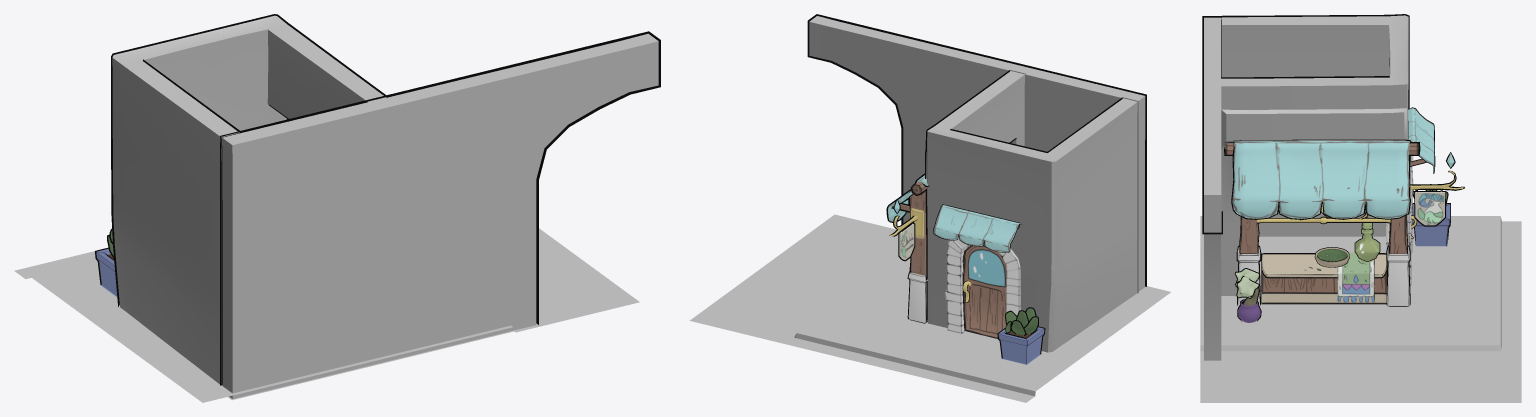
3 views of the same model, side by side, from view 1: azimuth 30°, elevation 25°; view 2: azimuth 150°, elevation 25°; view 3: azimuth 270°, elevation 25° (orthographic). The views are drawn at different scales.
Parts seen in each view (by area): view 1: Wall, Buildning, Floor, Plant_cactus; view 2: Buildning, Floor, Wall, Door, Cloth_small, Door_frame, Plant_cactus, Stall_front, Cloth_big, Sign_wall, Sign; view 3: Floor, Buildning, Cloth_big, Stall_front, Wall, Carpet, Plant, Cloth_small, Sign, Plant_cactus, Bottle, Decoration (+4 smaller).
Part boxes in pixels (left/top/right/bottom): Wall: left=220, top=31, right=660, bottom=400; Buildning: left=111, top=14, right=387, bottom=385; Floor: left=14, top=228, right=639, bottom=402; Plant_cactus: left=95, top=229, right=117, bottom=296; Buildning: left=925, top=70, right=1138, bottom=353; Floor: left=689, top=214, right=1170, bottom=402; Wall: left=807, top=14, right=1146, bottom=291; Door: left=962, top=245, right=1006, bottom=338; Cloth_small: left=933, top=204, right=1021, bottom=252; Door_frame: left=944, top=237, right=1020, bottom=333; Plant_cactus: left=997, top=307, right=1045, bottom=364; Stall_front: left=907, top=190, right=927, bottom=323; Cloth_big: left=886, top=173, right=929, bottom=222; Sign_wall: left=889, top=199, right=924, bottom=238; Sign: left=898, top=223, right=915, bottom=261; Floor: left=1200, top=216, right=1521, bottom=402; Buildning: left=1221, top=14, right=1409, bottom=296; Cloth_big: left=1224, top=139, right=1420, bottom=219; Stall_front: left=1236, top=215, right=1410, bottom=306; Wall: left=1202, top=16, right=1222, bottom=361; Carpet: left=1337, top=252, right=1374, bottom=302; Plant: left=1234, top=268, right=1261, bottom=322; Cloth_small: left=1408, top=107, right=1435, bottom=173; Sign: left=1414, top=191, right=1445, bottom=226; Plant_cactus: left=1412, top=184, right=1450, bottom=246; Bottle: left=1354, top=217, right=1380, bottom=262; Decoration: left=1256, top=202, right=1390, bottom=224.
Bounding box in the file's own units: 28.31 × 15.15 × 20.13.
